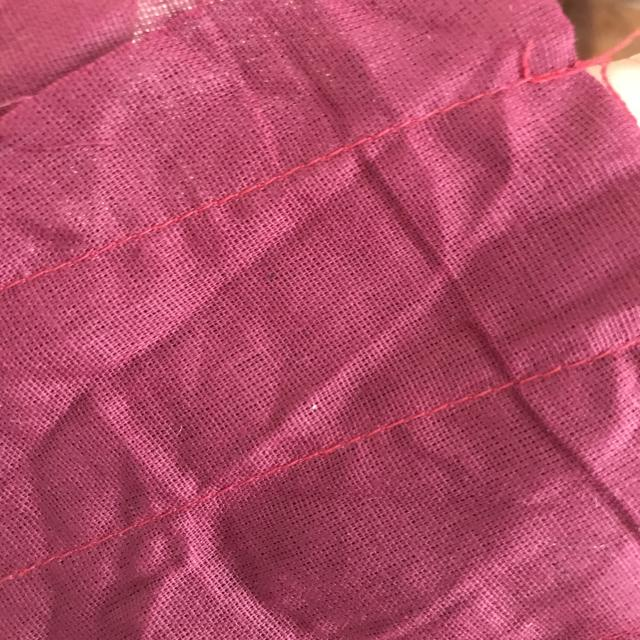good: (312, 92, 449, 180)
